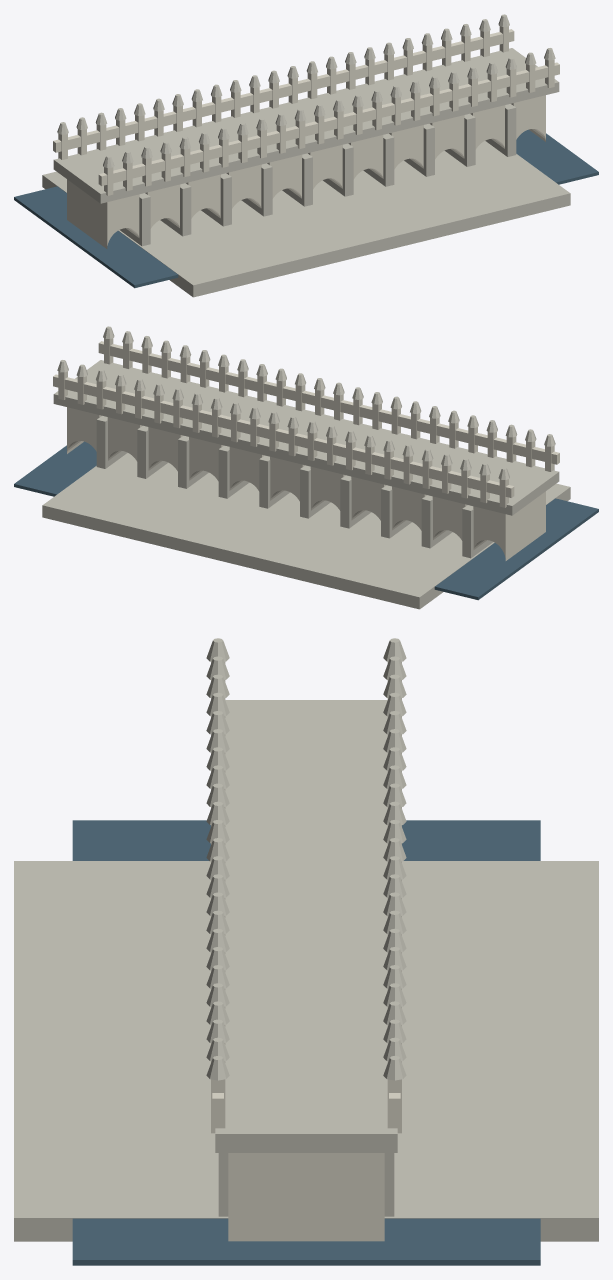
File: lugou.glb
3 views of the same model, one above another, from view 1: azimuth 30°, elevation 25°; view 2: azimuth 150°, elevation 25°; view 3: azimuth 270°, elevation 25° (orthographic). The views are drawn at different scales.
Visible parts, largest first — view 1: stone plinth, bridge deck, river, parapet, parapet.001, arched stone span, arched stone span.010, arched stone span.006, arched stone span.003, arched stone span.008, arched stone span.002, arched stone span.005 (+14 smaller); view 2: stone plinth, bridge deck, river, parapet.001, parapet, arched stone span, arched stone span.010, arched stone span.006, arched stone span.003, arched stone span.008, arched stone span.002, arched stone span.005 (+14 smaller); view 3: stone plinth, bridge deck, river, arched stone span.010, pier.009.
Part boxes in pixels (left/top/right/bottom): stone plinth: left=42, top=141, right=570, bottom=297; bridge deck: left=53, top=48, right=559, bottom=203; river: left=14, top=129, right=598, bottom=288; parapet: left=98, top=62, right=559, bottom=185; parapet.001: left=53, top=29, right=514, bottom=152; arched stone span: left=67, top=179, right=139, bottom=248; arched stone span.010: left=511, top=95, right=545, bottom=141; arched stone span.006: left=348, top=135, right=383, bottom=179; arched stone span.003: left=226, top=164, right=261, bottom=208; arched stone span.008: left=430, top=115, right=464, bottom=159; arched stone span.002: left=186, top=174, right=220, bottom=218; arched stone span.005: left=308, top=144, right=342, bottom=189; stone plinth: left=42, top=453, right=570, bottom=609; bridge deck: left=53, top=360, right=559, bottom=515; river: left=14, top=441, right=598, bottom=600; parapet.001: left=53, top=374, right=514, bottom=497; parapet: left=98, top=341, right=559, bottom=464; arched stone span: left=473, top=491, right=545, bottom=560; arched stone span.010: left=67, top=407, right=101, bottom=453; arched stone span.006: left=229, top=447, right=264, bottom=491; arched stone span.003: left=351, top=476, right=386, bottom=520; arched stone span.008: left=148, top=427, right=182, bottom=471; arched stone span.002: left=392, top=486, right=426, bottom=530; arched stone span.005: left=270, top=456, right=304, bottom=501; stone plinth: left=14, top=861, right=598, bottom=1241; bridge deck: left=215, top=700, right=397, bottom=1152; river: left=72, top=820, right=540, bottom=1265; arched stone span.010: left=228, top=1153, right=384, bottom=1241; pier.009: left=218, top=1153, right=394, bottom=1216.
Bounding box in the file's own units: 8 × 1.82 × 4.5.
